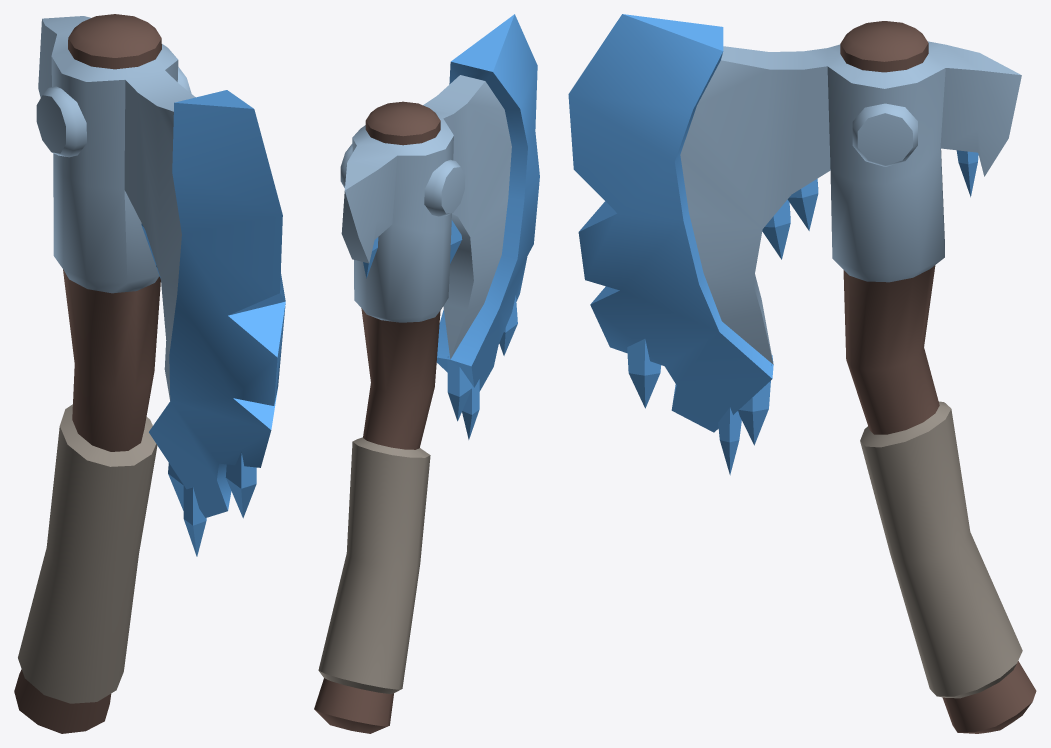
File: jotunn_axe_B.fbx
3 renders of one model, left to right at view 1: azimuth 30°, elevation 25°; view 2: azimuth 150°, elevation 25°; view 3: azimuth 270°, elevation 25°, orthographic. The views are drawn at different scales.
Visible parts, largest first — view 1: jotunn_axe_B; view 2: jotunn_axe_B; view 3: jotunn_axe_B.
Boxes of the visible parts, bbox=[...] form: jotunn_axe_B: bbox=[14, 14, 285, 733]; jotunn_axe_B: bbox=[314, 14, 539, 733]; jotunn_axe_B: bbox=[568, 14, 1036, 733].
Size of the model in its own units: 0.1472 by 0.813 by 0.4845.
